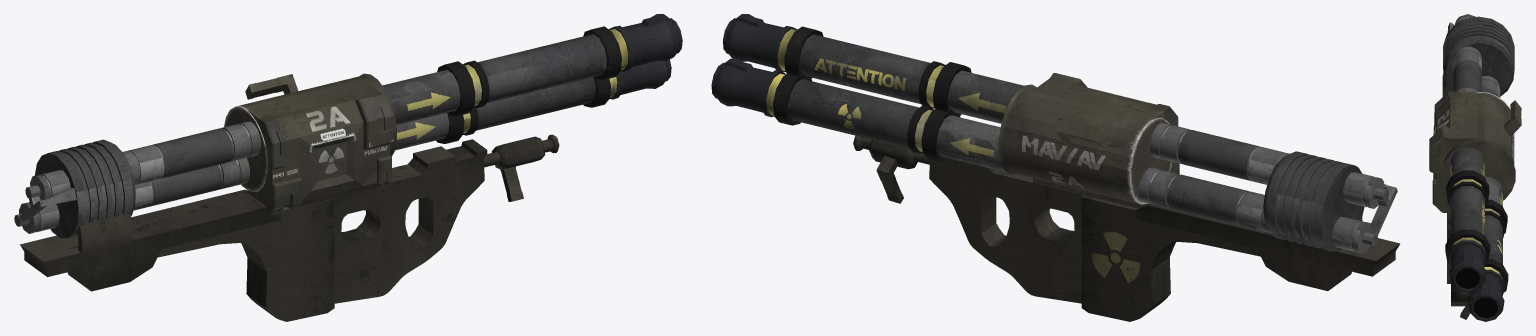
The model's file is rocketDrop.obj.
The picture shows the model from 3 angles, left to right: view 1: azimuth 30°, elevation 25°; view 2: azimuth 150°, elevation 25°; view 3: azimuth 270°, elevation 25°; orthographic projection. The views are drawn at different scales.
Visible parts, largest first — view 1: polySurface3 group2 group1, group2 group1 polySurface4, group2 group1 polySurface19; view 2: group2 group1 polySurface4, polySurface3 group2 group1, group2 group1 polySurface19; view 3: group2 group1 polySurface4, group2 group1 polySurface19, polySurface3 group2 group1.
Boxes of the visible parts, left/top/right/bottom form: polySurface3 group2 group1: left=20, top=134, right=559, bottom=321; group2 group1 polySurface4: left=14, top=14, right=682, bottom=238; group2 group1 polySurface19: left=224, top=73, right=396, bottom=215; group2 group1 polySurface4: left=711, top=14, right=1397, bottom=253; polySurface3 group2 group1: left=853, top=135, right=1400, bottom=321; group2 group1 polySurface19: left=998, top=73, right=1179, bottom=208; group2 group1 polySurface4: left=1443, top=14, right=1514, bottom=321; group2 group1 polySurface19: left=1429, top=91, right=1521, bottom=212; polySurface3 group2 group1: left=1442, top=73, right=1470, bottom=319.
Bounding box in the file's own units: 5.78 × 1.77 × 0.8781.
